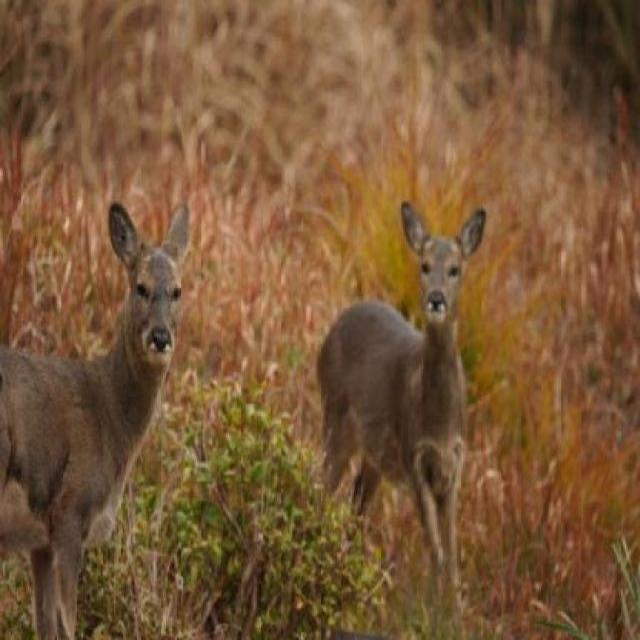deer: (0, 189, 200, 639), (320, 200, 488, 585)
